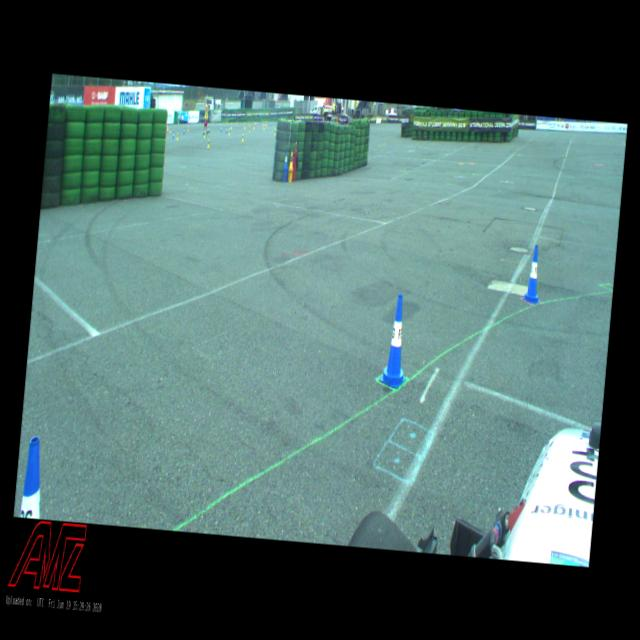blue_cone: (378, 292, 413, 388), (522, 244, 544, 304), (284, 152, 288, 168)
yellow_cone: (288, 151, 294, 169)
